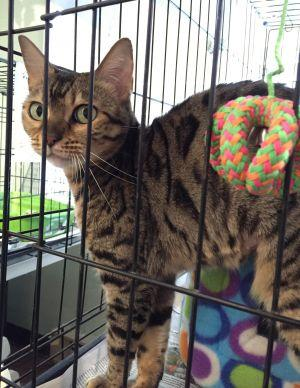bengal: (11, 27, 141, 172)
